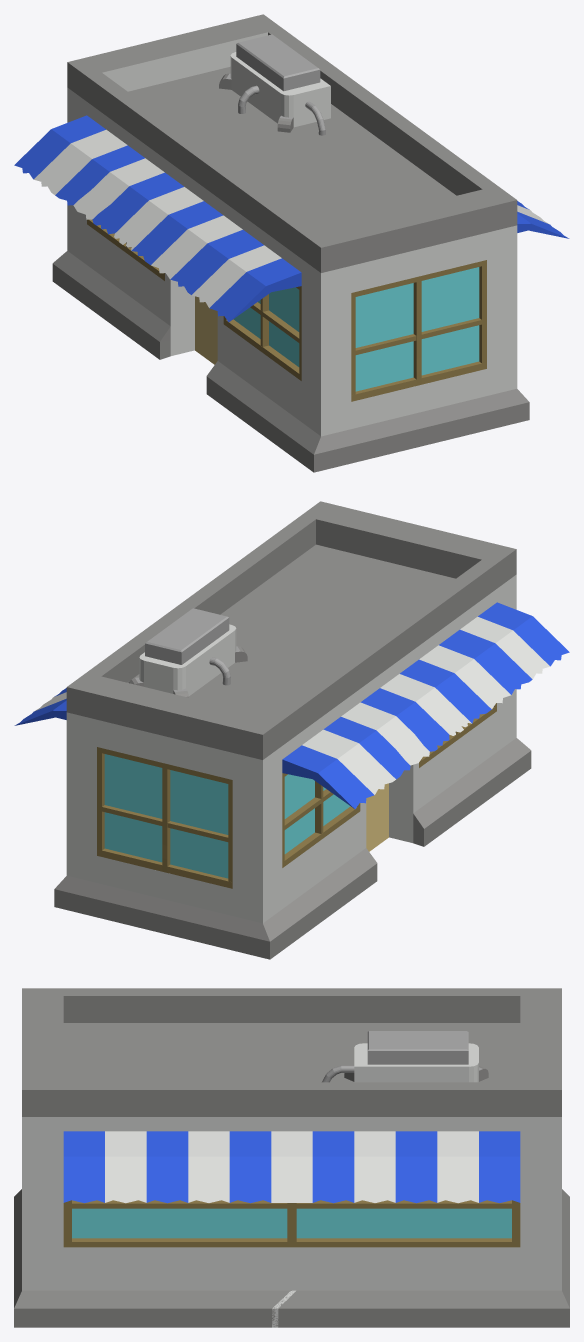
Rendered from Edificio_2.fbx.
3 views of the same model, one above another, from view 1: azimuth 30°, elevation 25°; view 2: azimuth 150°, elevation 25°; view 3: azimuth 270°, elevation 25° (orthographic). The views are drawn at different scales.
Visible parts, largest first — view 1: Edificio_2 (Tienda); view 2: Edificio_2 (Tienda); view 3: Edificio_2 (Tienda).
Boxes of the visible parts, <box> form: Edificio_2 (Tienda): <box>14,14,569,472</box>; Edificio_2 (Tienda): <box>14,501,569,959</box>; Edificio_2 (Tienda): <box>14,988,569,1327</box>.
Bounding box in the file's own units: 1013 × 680 × 1339.
